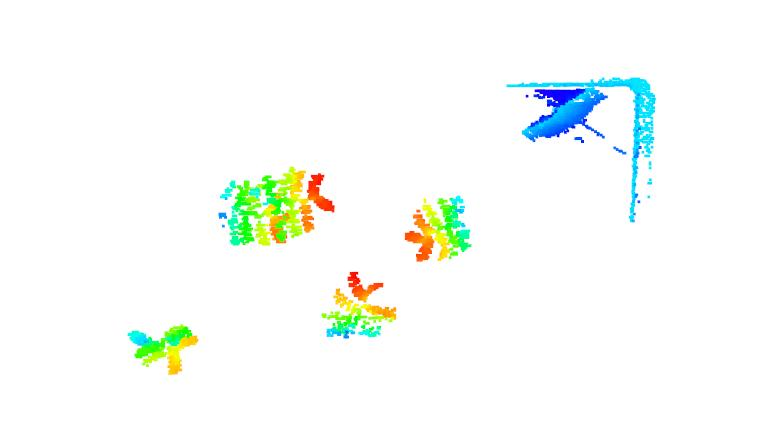chickpea: (215, 166, 338, 248), (318, 266, 399, 341), (403, 192, 477, 266), (126, 318, 201, 377)
